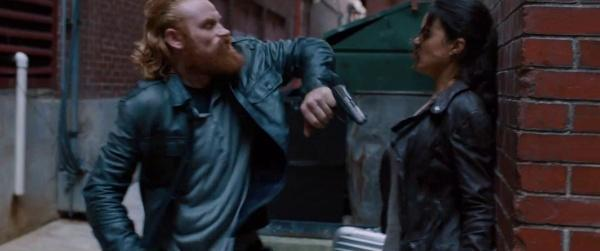Gun: (333, 83, 368, 125)
